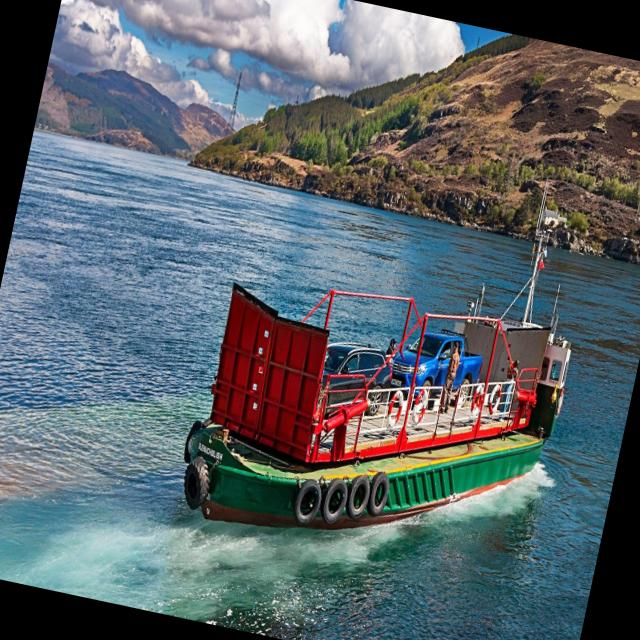boat: (156, 126, 619, 613)
